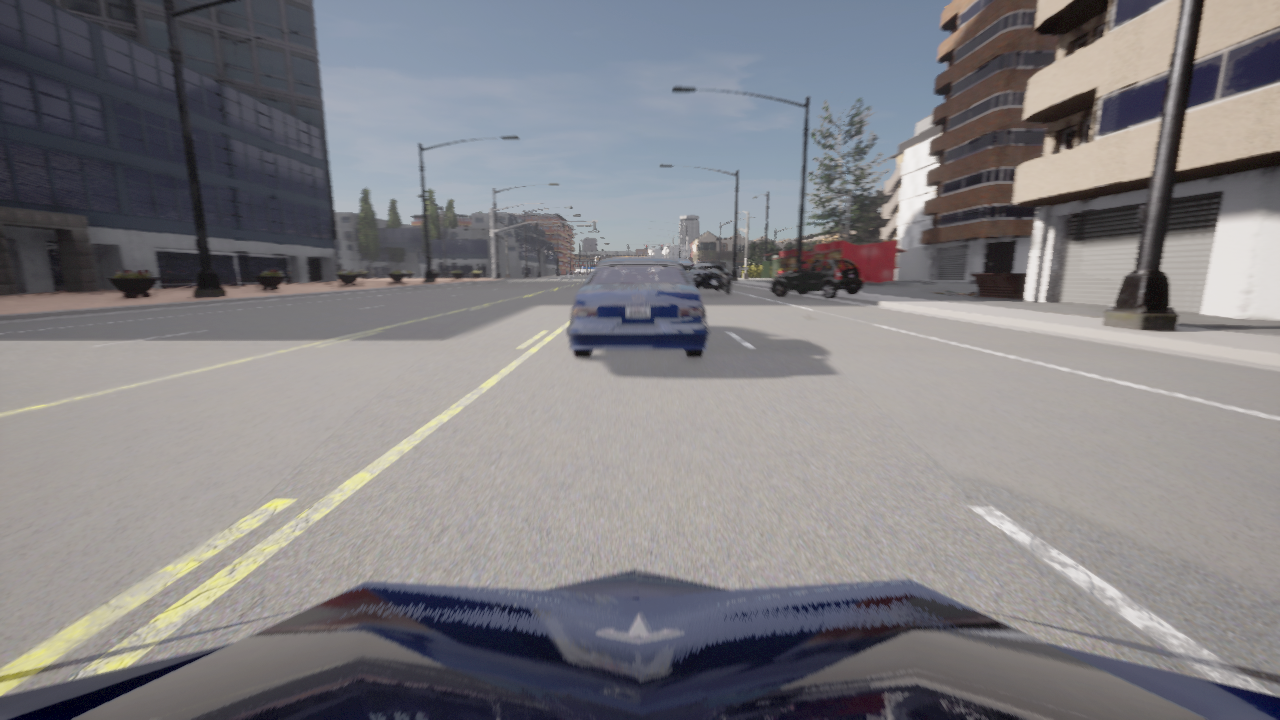cyclist: (0, 569, 1279, 719), (567, 258, 709, 358), (771, 259, 863, 299), (686, 262, 730, 294), (675, 260, 694, 274)
